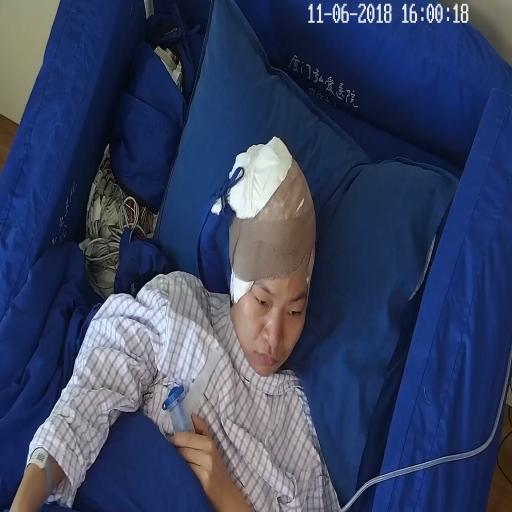Seizure: (234, 193, 322, 367)
